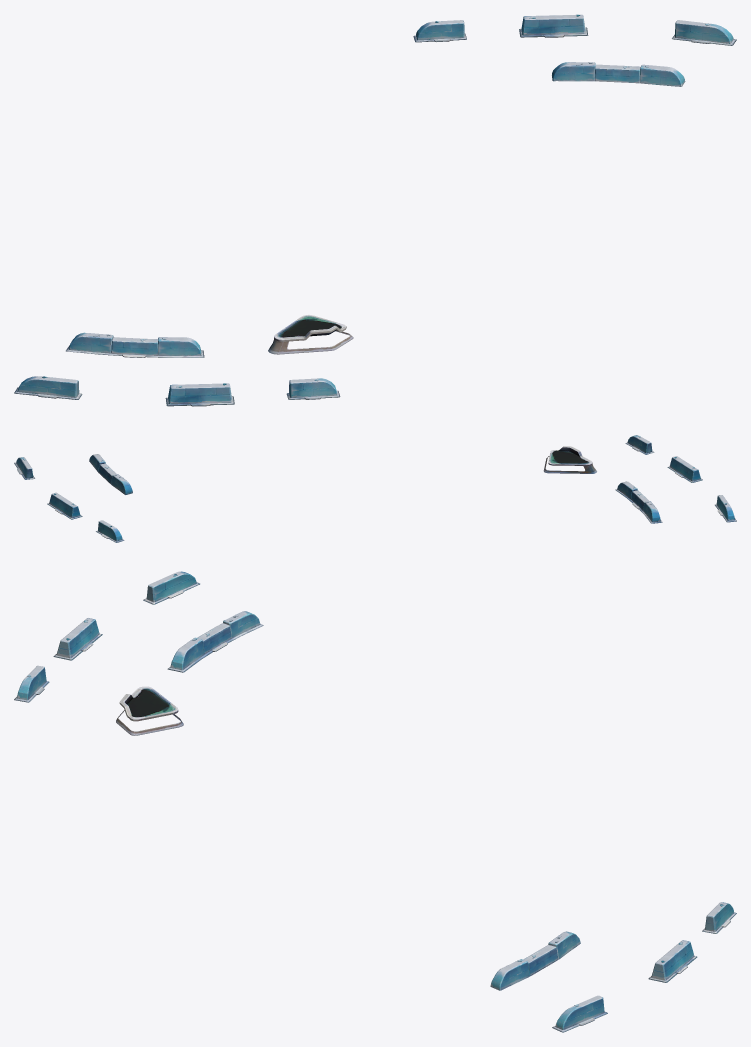
File: pref_sm_beach_winter_bakegroups09_lv1.fbx
3 views of the same model, one above another, from view 1: azimuth 30°, elevation 25°; view 2: azimuth 150°, elevation 25°; view 3: azimuth 270°, elevation 25° (orthographic). The views are drawn at different scales.
Visible parts, largest first — view 1: sm_beach_winter_bakegroups09_a_lv1, sm_beach_winter_bakegroups09_c_lv1; view 2: sm_beach_winter_bakegroups09_a_lv1, sm_beach_winter_bakegroups09_c_lv1; view 3: sm_beach_winter_bakegroups09_a_lv1, sm_beach_winter_bakegroups09_c_lv1.
Boxes of the visible parts, x1,y1,x2,y2 form: sm_beach_winter_bakegroups09_a_lv1: (14,315,353,406); sm_beach_winter_bakegroups09_c_lv1: (413,14,736,86); sm_beach_winter_bakegroups09_a_lv1: (543,435,736,523); sm_beach_winter_bakegroups09_c_lv1: (14,454,132,542); sm_beach_winter_bakegroups09_a_lv1: (14,571,263,735); sm_beach_winter_bakegroups09_c_lv1: (490,902,736,1032).
Size of the model in its own units: 108 by 2.15 by 73.09.
